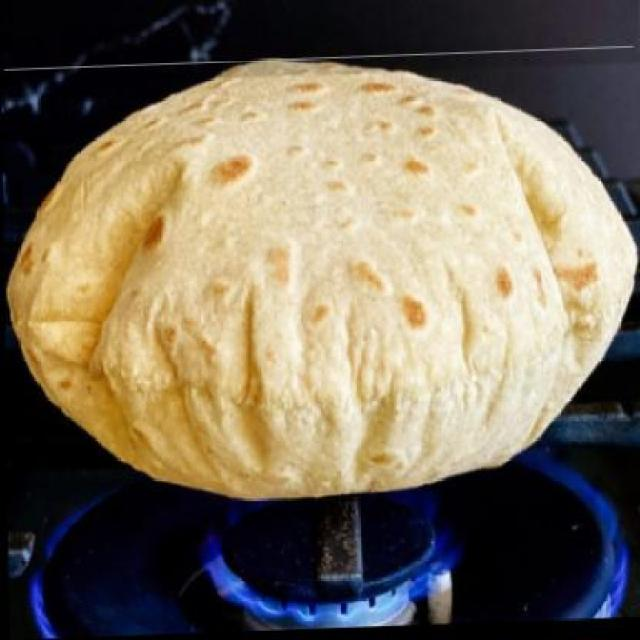chapati: (4, 50, 639, 508)
